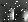person: (8, 10, 14, 21), (25, 11, 28, 22)
